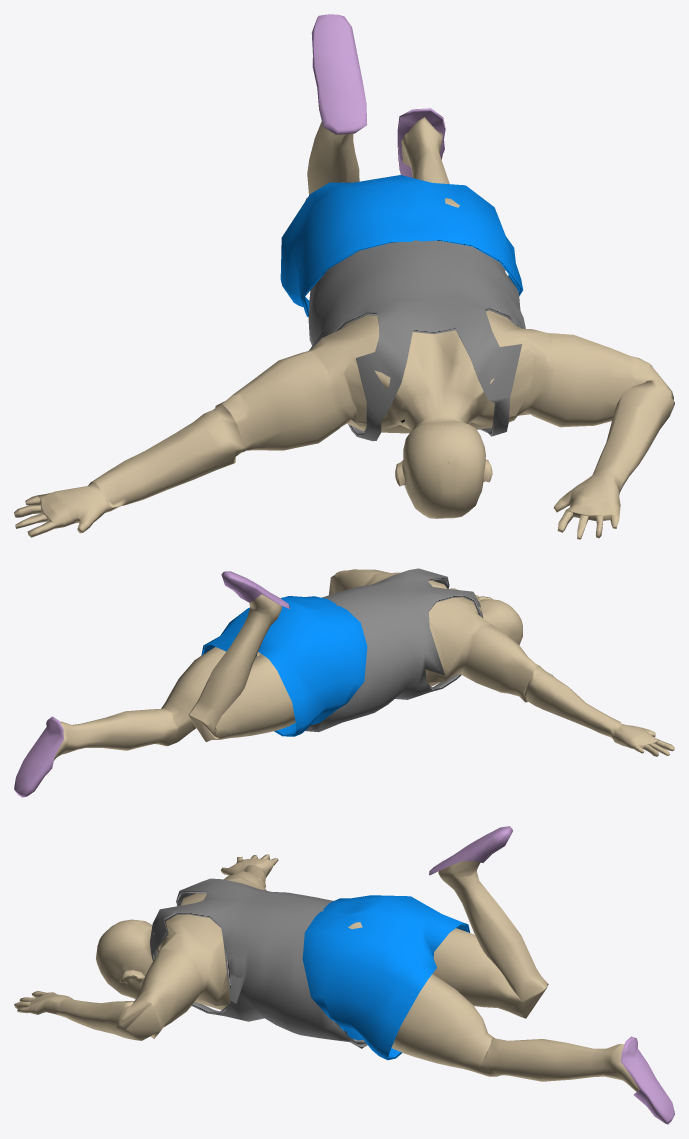
Rendered from Enemy_Intro.fbx.
The picture shows the model from 3 angles, top to bottom: view 1: azimuth 30°, elevation 25°; view 2: azimuth 150°, elevation 25°; view 3: azimuth 270°, elevation 25°; orthographic projection. The views are drawn at different scales.
Visible parts, largest first — view 1: EnemyDude1; view 2: EnemyDude1; view 3: EnemyDude1.
Boxes of the visible parts, x1=… form: EnemyDude1: x1=14, y1=14, x2=674, y2=539; EnemyDude1: x1=14, y1=568, x2=674, y2=797; EnemyDude1: x1=14, y1=826, x2=674, y2=1124.
Size of the model in its own units: 1.94 by 0.7957 by 2.14.
